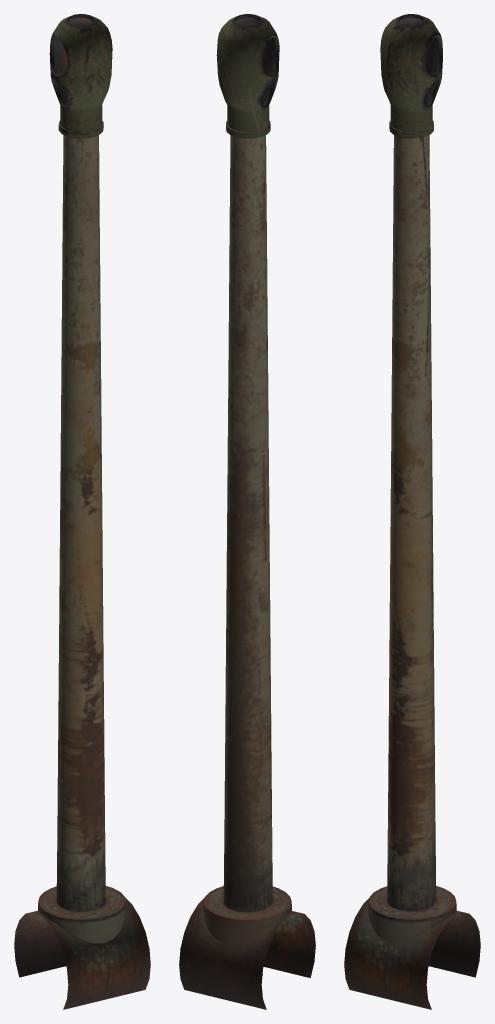
Rendered from Gun_08.glb.
3 renders of one model, left to right at view 1: azimuth 30°, elevation 25°; view 2: azimuth 150°, elevation 25°; view 3: azimuth 330°, elevation 25°, orthographic.
Parts seen in each view (by area): view 1: set_0_group_0; view 2: set_0_group_0; view 3: set_0_group_0.
Boxes of the visible parts, box(x1,y1,x2,y2) form: set_0_group_0: box(14, 14, 150, 1009); set_0_group_0: box(179, 14, 315, 1009); set_0_group_0: box(344, 14, 480, 1009).
Bounding box in the file's own units: 0.347 × 3.87 × 0.3938.
1 material, 1 textured.
